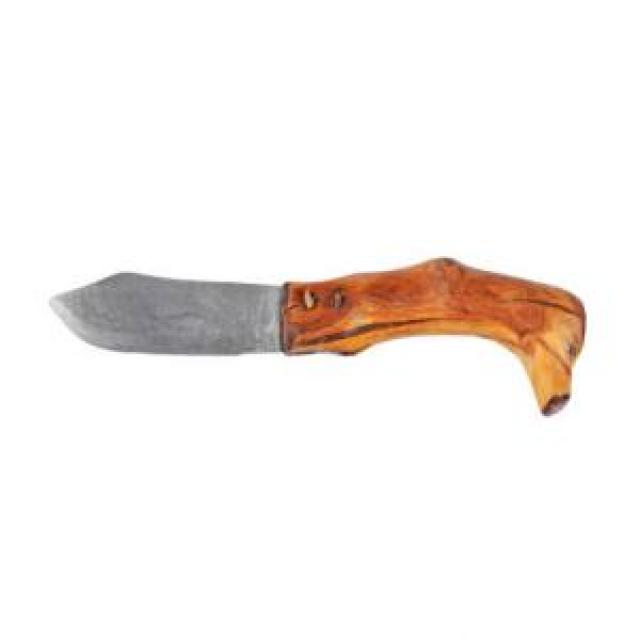knife: (43, 258, 591, 431)
